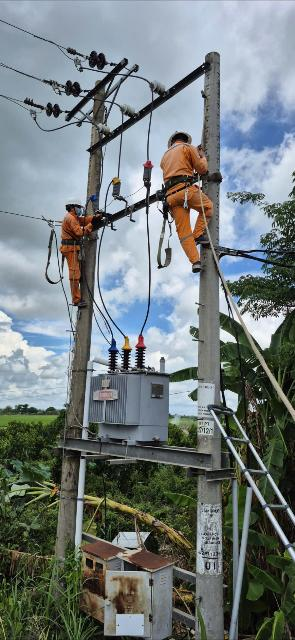gloves: (90, 211, 106, 235)
harness: (149, 173, 204, 189), (51, 235, 86, 249)
helmet: (155, 122, 199, 145), (58, 198, 89, 212)
shoes: (195, 228, 215, 253), (179, 257, 206, 272), (69, 301, 92, 311)
